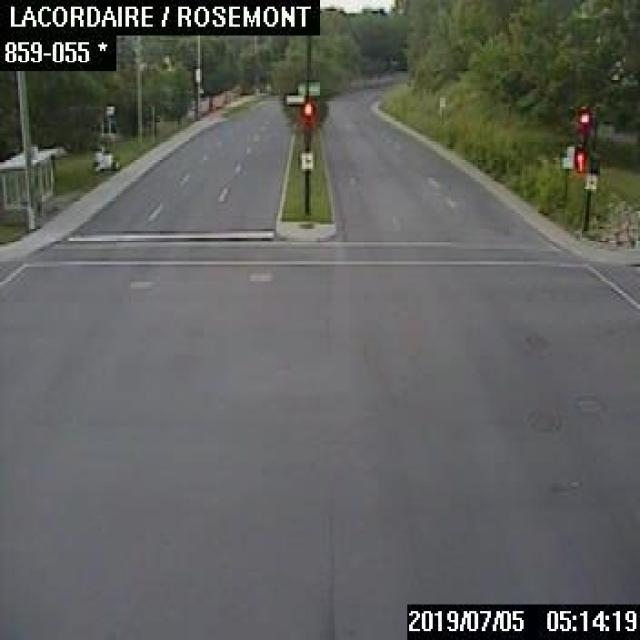construction: (88, 104, 118, 171)
